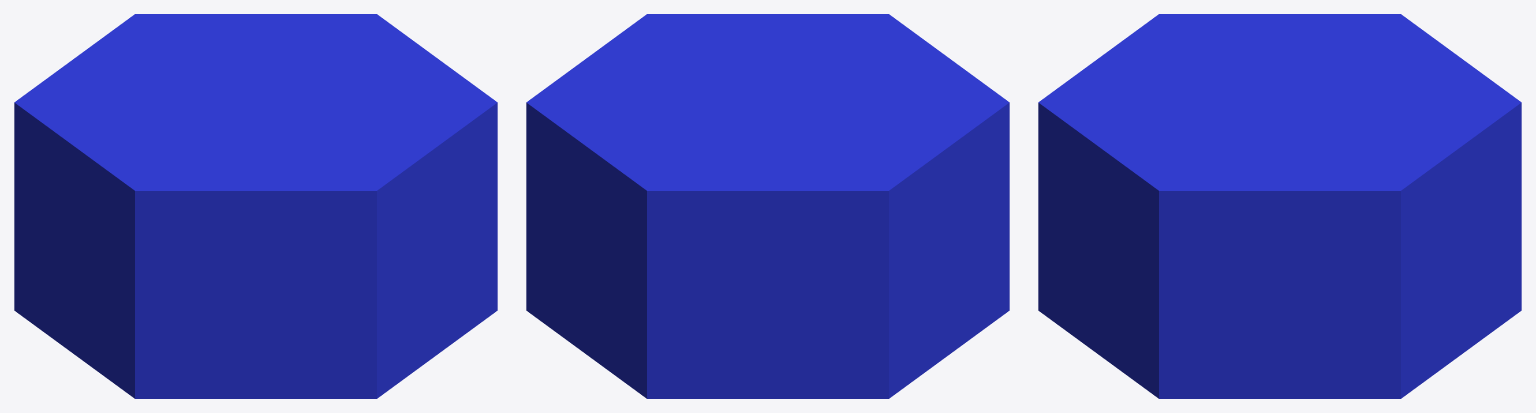
Rendered from module-corner_water.glb.
The picture shows the model from 3 angles, left to right: view 1: azimuth 30°, elevation 25°; view 2: azimuth 150°, elevation 25°; view 3: azimuth 270°, elevation 25°; orthographic projection.
Parts seen in each view (by area): view 1: module-corner_water; view 2: module-corner_water; view 3: module-corner_water.
Boxes of the visible parts, x1=… form: module-corner_water: x1=14, y1=14, x2=497, y2=398; module-corner_water: x1=526, y1=14, x2=1009, y2=398; module-corner_water: x1=1038, y1=14, x2=1521, y2=398.
Size of the model in its own units: 0.866 by 0.475 by 1.
